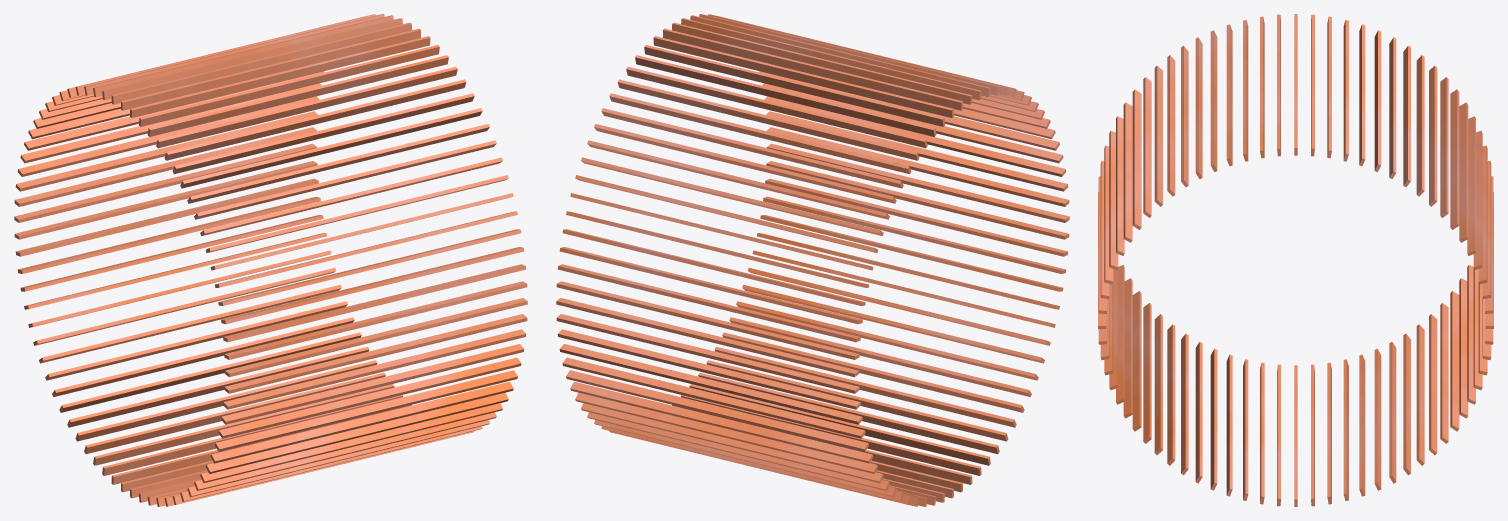
File: Tubes.glb
3 views of the same model, side by side, from view 1: azimuth 30°, elevation 25°; view 2: azimuth 150°, elevation 25°; view 3: azimuth 270°, elevation 25° (orthographic). The views are drawn at different scales.
Parts seen in each view (by area): view 1: New_HPM_Cooling_Channels_5Aug2024; view 2: New_HPM_Cooling_Channels_5Aug2024; view 3: New_HPM_Cooling_Channels_5Aug2024.
Boxes of the visible parts, <box> form: New_HPM_Cooling_Channels_5Aug2024: <box>14,14,527,506</box>; New_HPM_Cooling_Channels_5Aug2024: <box>556,14,1069,506</box>; New_HPM_Cooling_Channels_5Aug2024: <box>1098,14,1493,506</box>.
Bounding box in the file's own units: 0.46 × 0.574 × 0.574.
1 material, 1 textured.
